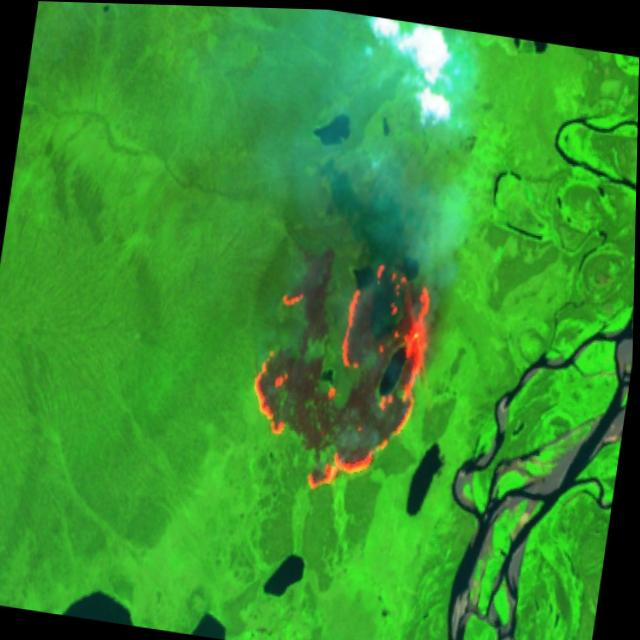fire: (236, 235, 443, 507)
